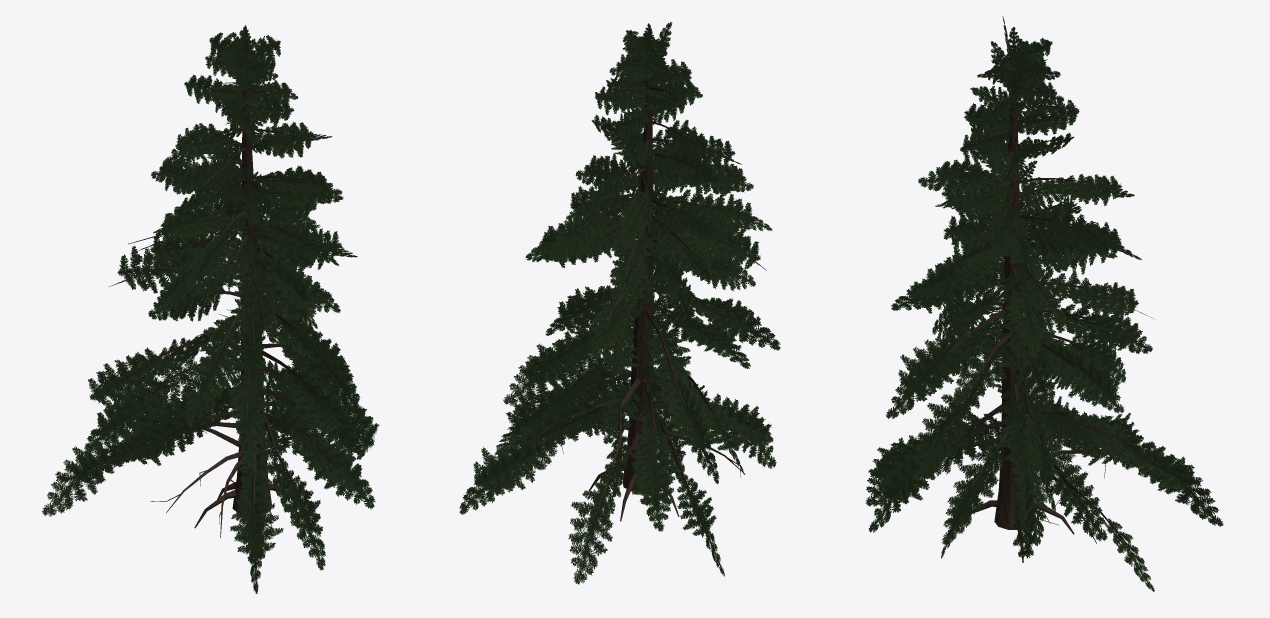
Rendered from pine_c.glb.
The picture shows the model from 3 angles, left to right: view 1: azimuth 30°, elevation 25°; view 2: azimuth 150°, elevation 25°; view 3: azimuth 270°, elevation 25°; orthographic projection. The views are drawn at different scales.
Visible parts, largest first — view 1: pine_c_pine_needles_c, pine_c_bark_pine; view 2: pine_c_pine_needles_c, pine_c_bark_pine; view 3: pine_c_pine_needles_c, pine_c_bark_pine.
Boxes of the visible parts, <box> form: pine_c_pine_needles_c: <box>42,25,379,593</box>; pine_c_bark_pine: <box>81,43,365,538</box>; pine_c_pine_needles_c: <box>459,22,780,584</box>; pine_c_bark_pine: <box>489,42,771,528</box>; pine_c_pine_needles_c: <box>865,16,1223,591</box>; pine_c_bark_pine: <box>896,45,1147,562</box>.
Bounding box in the file's own units: 7.03 × 10.97 × 7.7.
2 materials, 2 textured.
